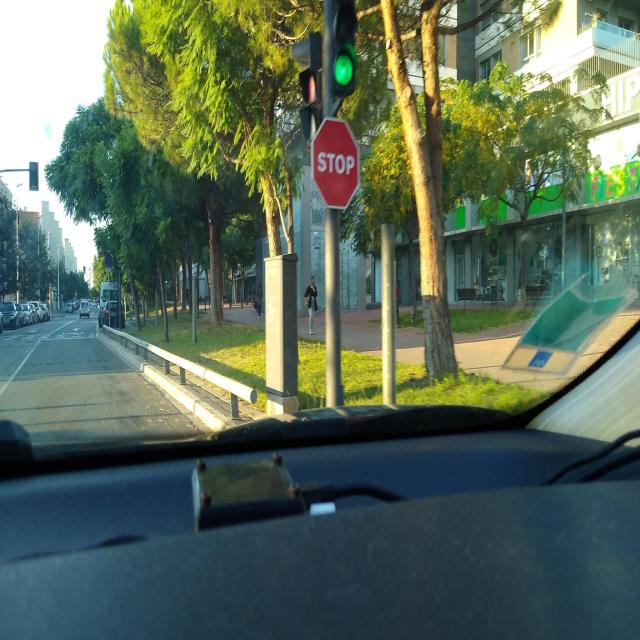forb_stopping: (104, 254, 113, 268)
